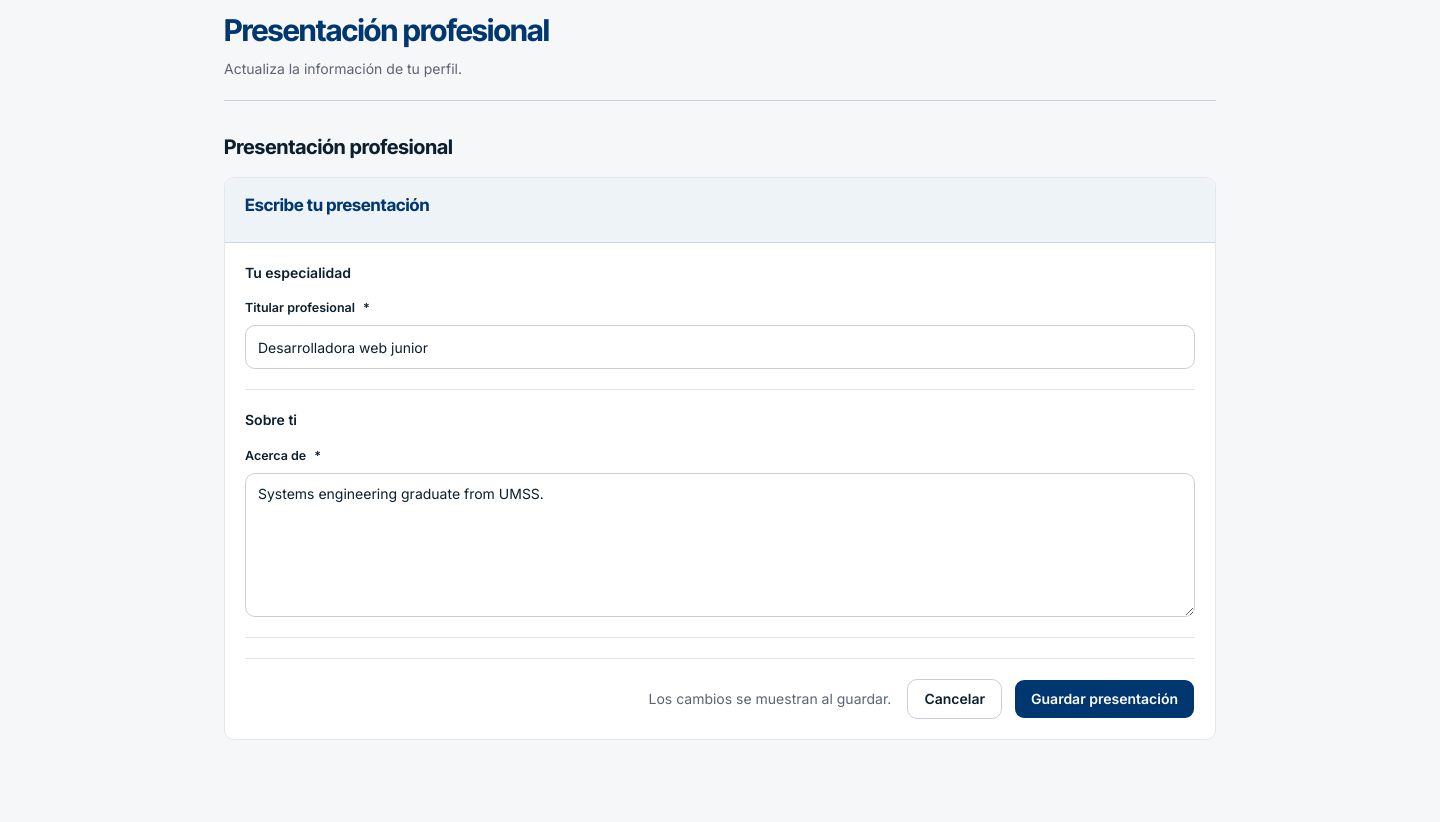
PresentationView › shows the server field errors in Spanish next to each field
Check: the field labelled "Titular profesional *" is shown, box [245,326,1195,370]
Click the button "Guardar presentación".
click(1104, 699)  # box [1014,679,1195,719]
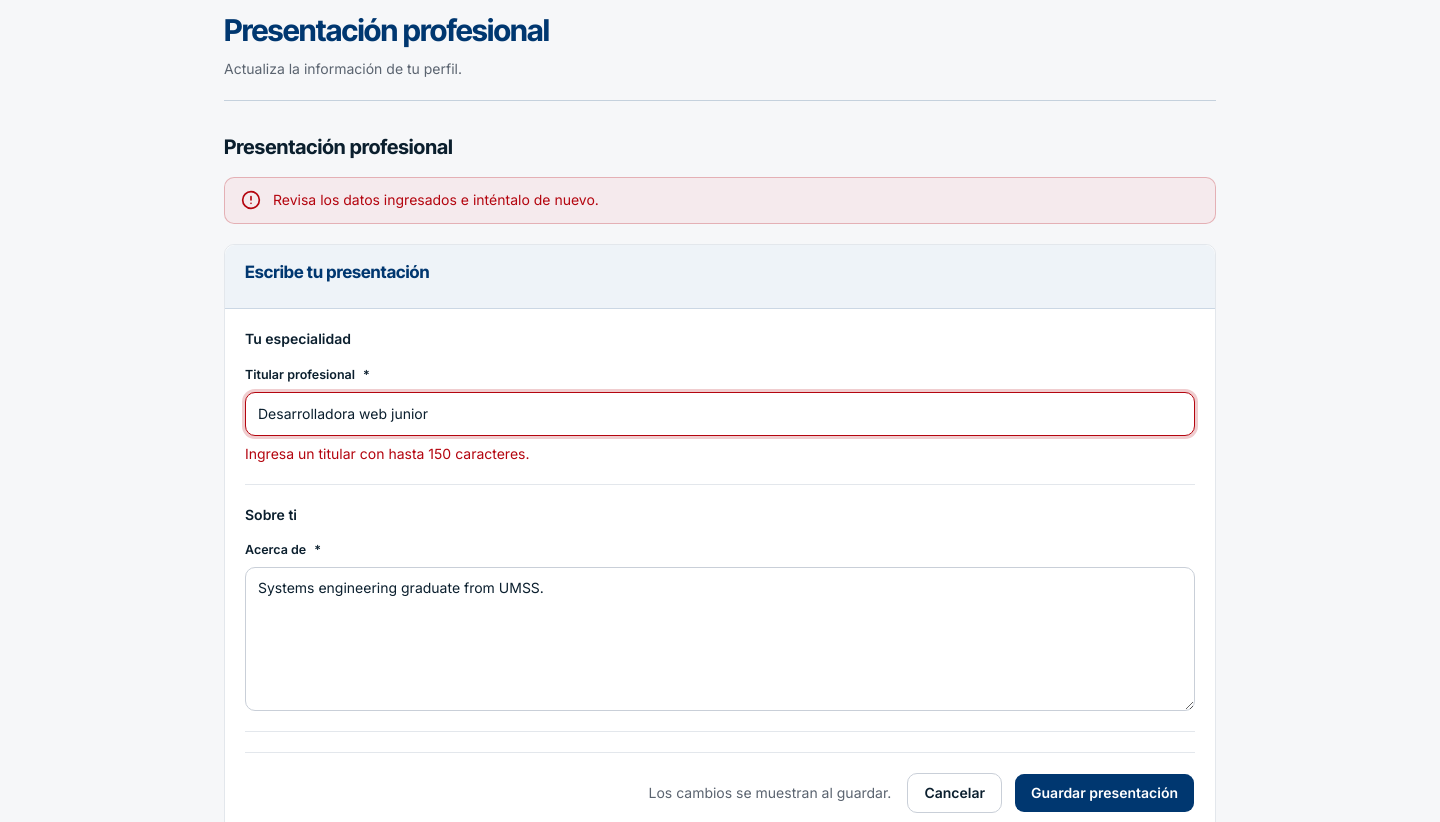
Check: the message reads "Revisa los datos ingresados e inténtalo de nuevo.", box [273,191,599,208]
